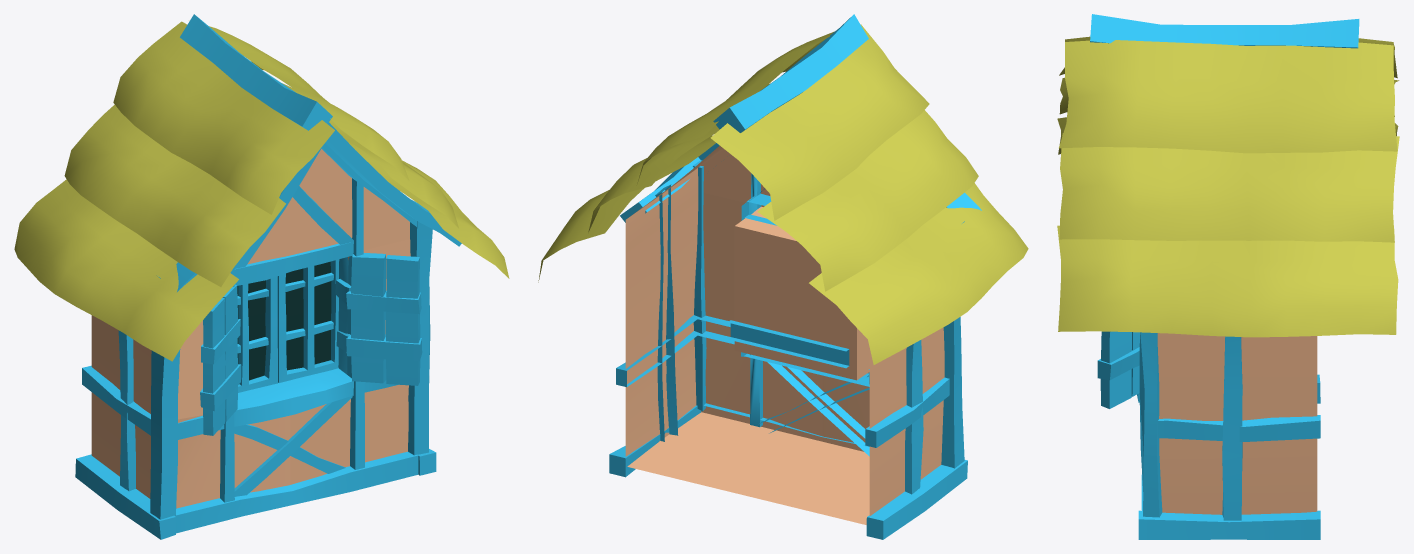
The model's file is House_extension_01_hay.fbx.
3 views of the same model, side by side, from view 1: azimuth 30°, elevation 25°; view 2: azimuth 150°, elevation 25°; view 3: azimuth 270°, elevation 25° (orthographic). The views are drawn at different scales.
Visible parts, largest first — view 1: House_extension_01_hay; view 2: House_extension_01_hay; view 3: House_extension_01_hay.
Boxes of the visible parts, <box> form: House_extension_01_hay: <box>14,14,509,539</box>; House_extension_01_hay: <box>538,14,1028,539</box>; House_extension_01_hay: <box>1057,14,1399,539</box>.
Size of the model in its own units: 735 by 755 by 516.
